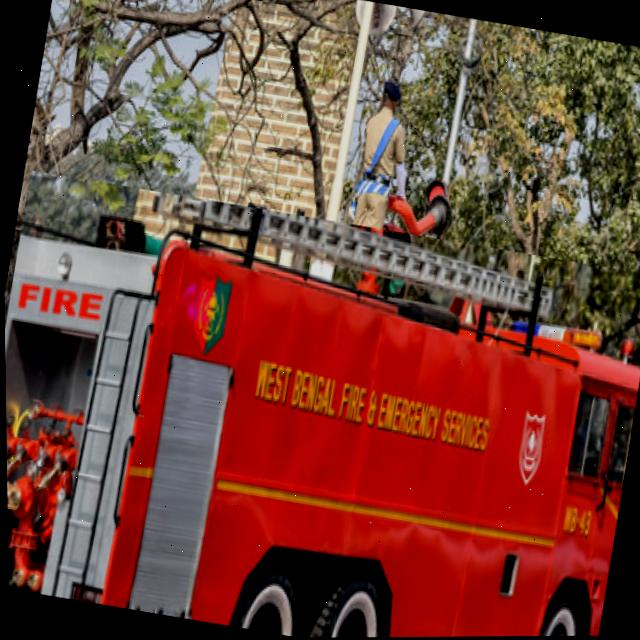Fire Truck: (2, 166, 640, 640)
